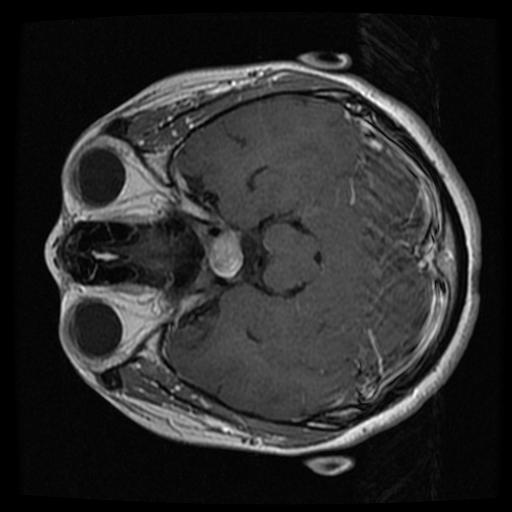pituitary tumour: (207, 228, 243, 278)
